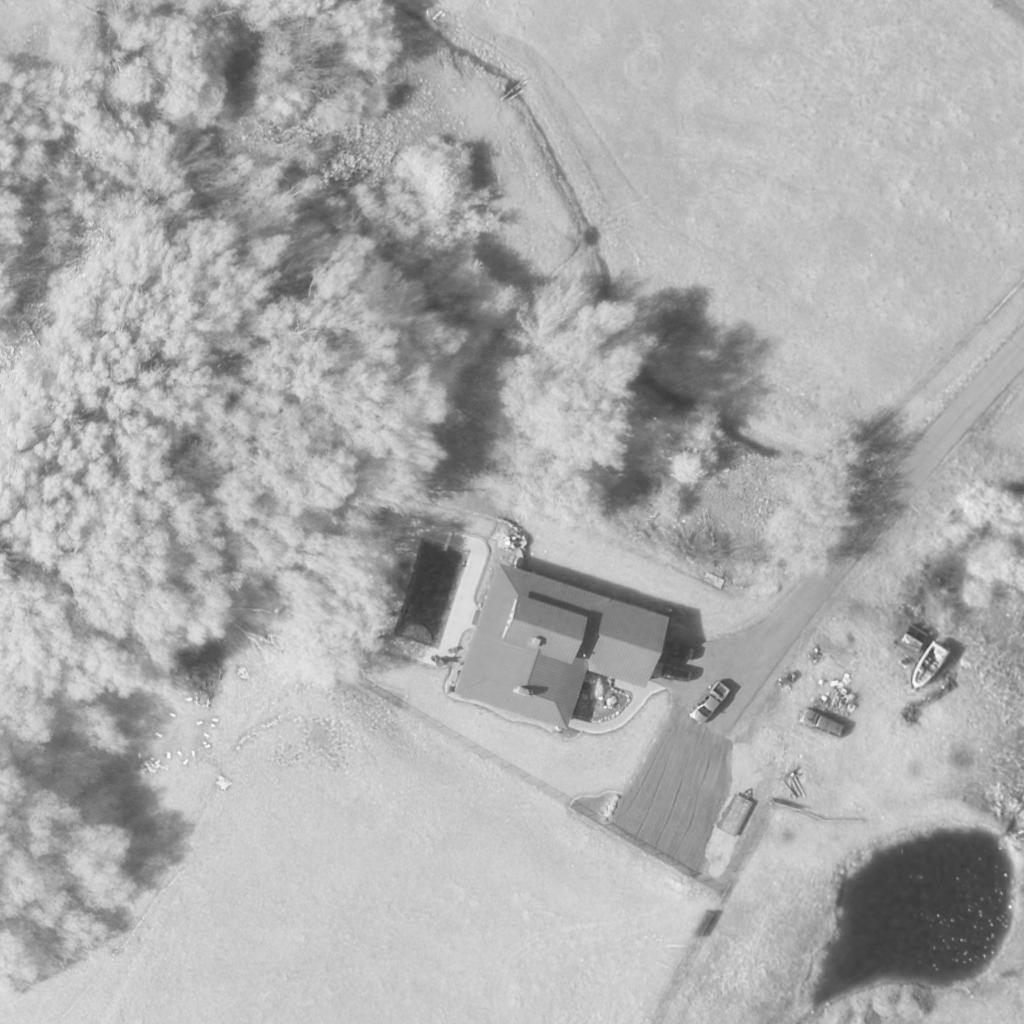vehicle: (905, 640, 951, 692), (689, 682, 733, 726), (797, 708, 845, 740)
